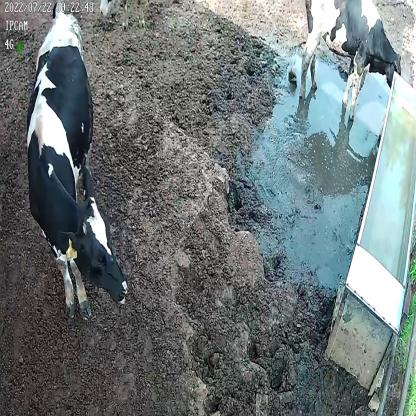cow: (23, 10, 130, 319), (300, 0, 402, 125)
